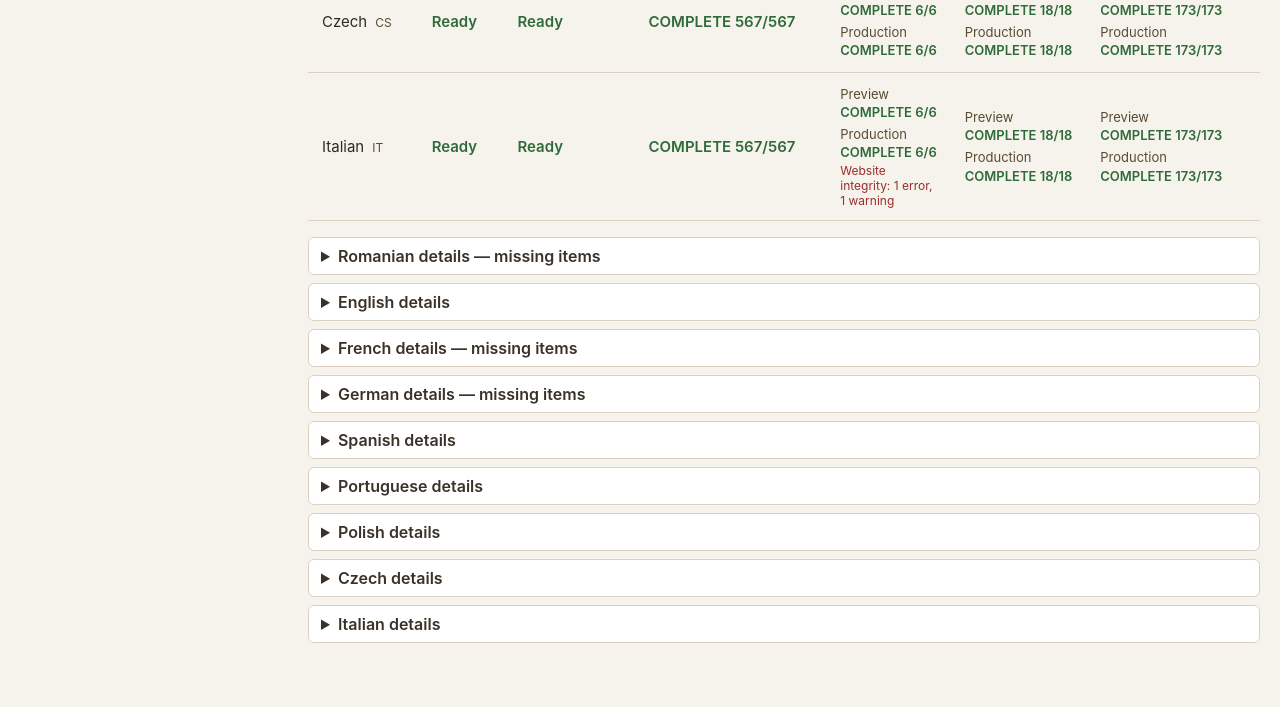
Test: Admin Locale Readiness overview › shows Website integrity errors and warnings without hiding readiness counts
(page scrolled)
Expected: the text "Website integrity: 1 error, 1 warning" is shown, [840, 163, 937, 208]
Step 1. Click the heading "Italian details" → [389, 624], box [338, 614, 440, 634]
(page scrolled)
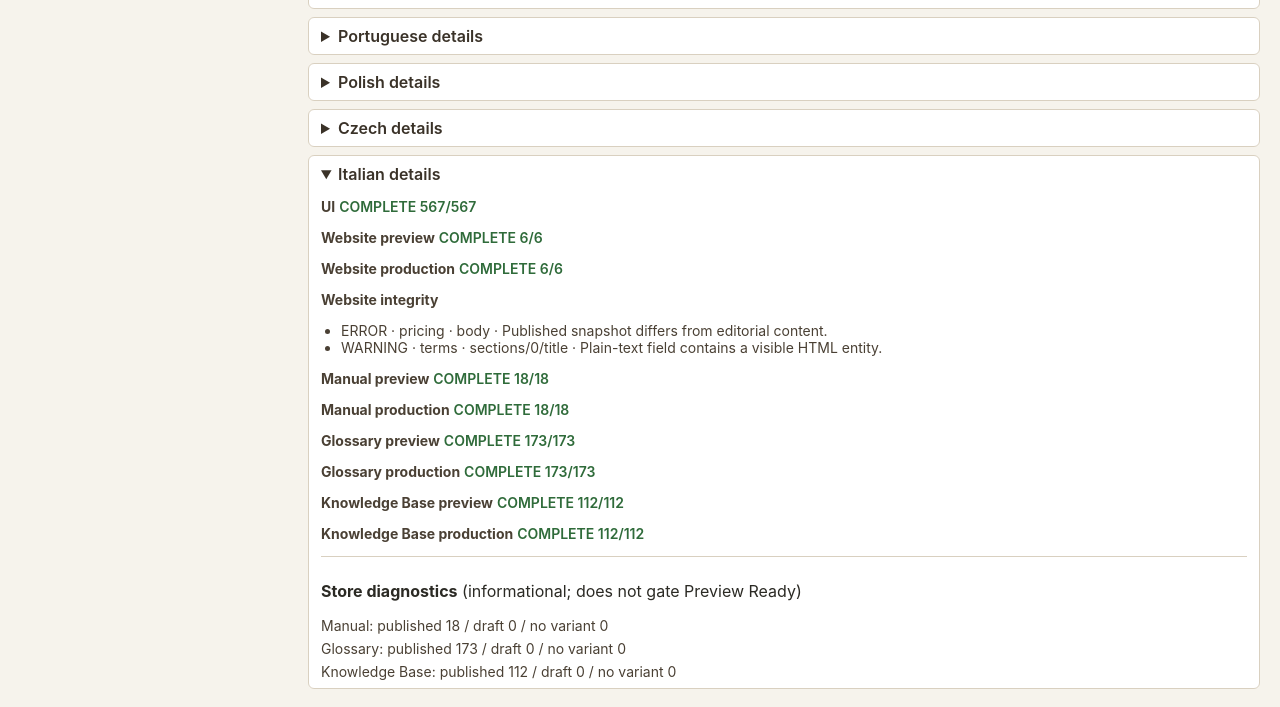
Expected: the list item "ERROR · pricing" is shown, [341, 322, 828, 339]
Expected: the list item "WARNING · terms" is shown, [341, 339, 882, 356]
